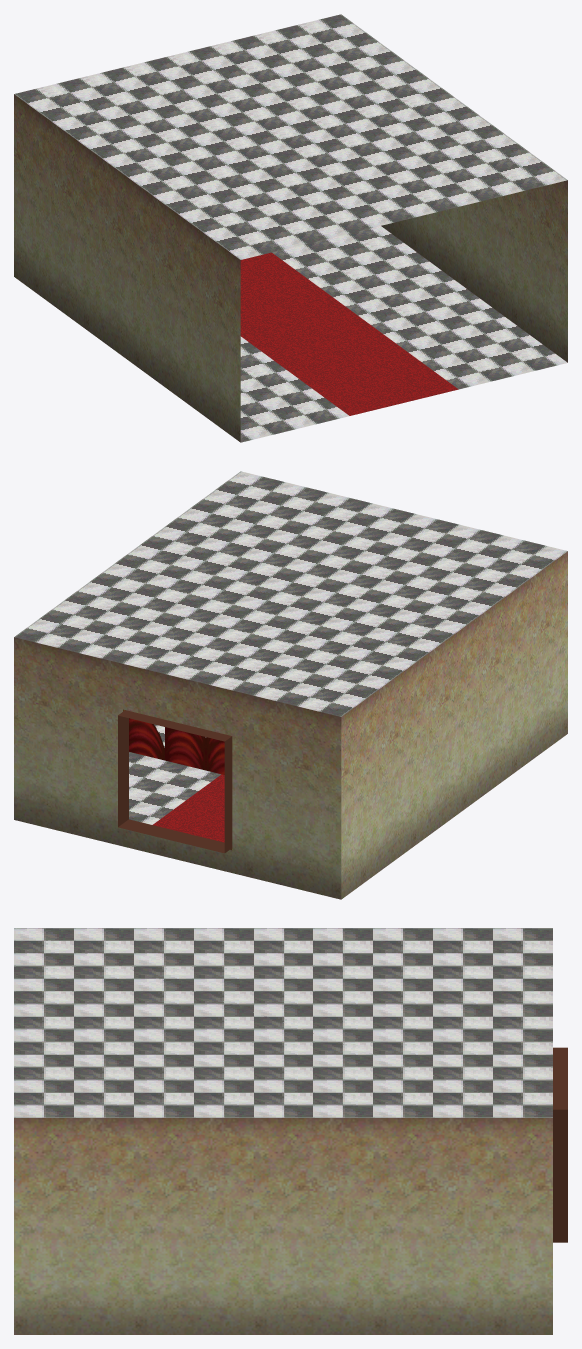
File: e3_start_map_r00.obj
3 views of the same model, one above another, from view 1: azimuth 30°, elevation 25°; view 2: azimuth 150°, elevation 25°; view 3: azimuth 270°, elevation 25° (orthographic). The views are drawn at different scales.
Parts seen in each view (by area): view 1: world_root; view 2: world_root; view 3: world_root.
Part boxes in pixels (x1,y1,x2,y2): world_root: (14,14,567,442); world_root: (14,471,567,899); world_root: (14,928,567,1334).
Bounding box in the file's own units: 1.5 × 0.8 × 1.85.
Materials: 7 (7 with a texture image).
